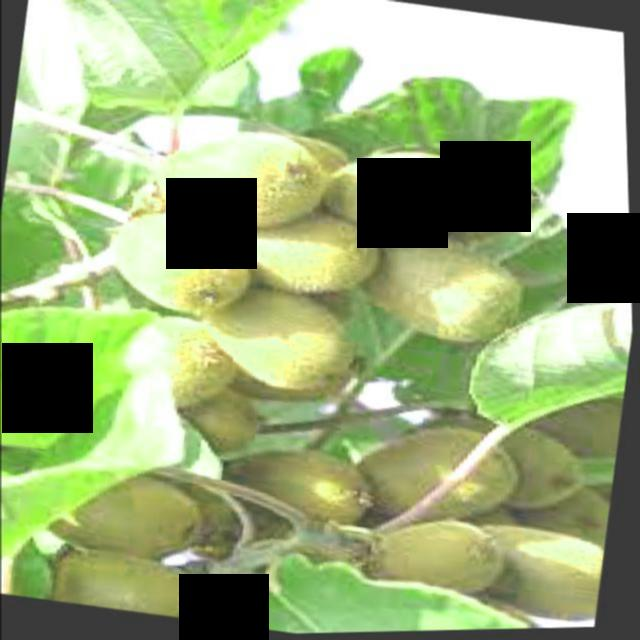kiwi: (329, 222, 542, 360), (337, 412, 528, 559), (172, 278, 369, 419), (7, 444, 215, 574), (189, 428, 388, 561), (150, 119, 341, 246), (431, 516, 606, 634), (416, 410, 598, 522), (99, 207, 262, 329), (29, 537, 237, 628), (109, 310, 246, 436)
